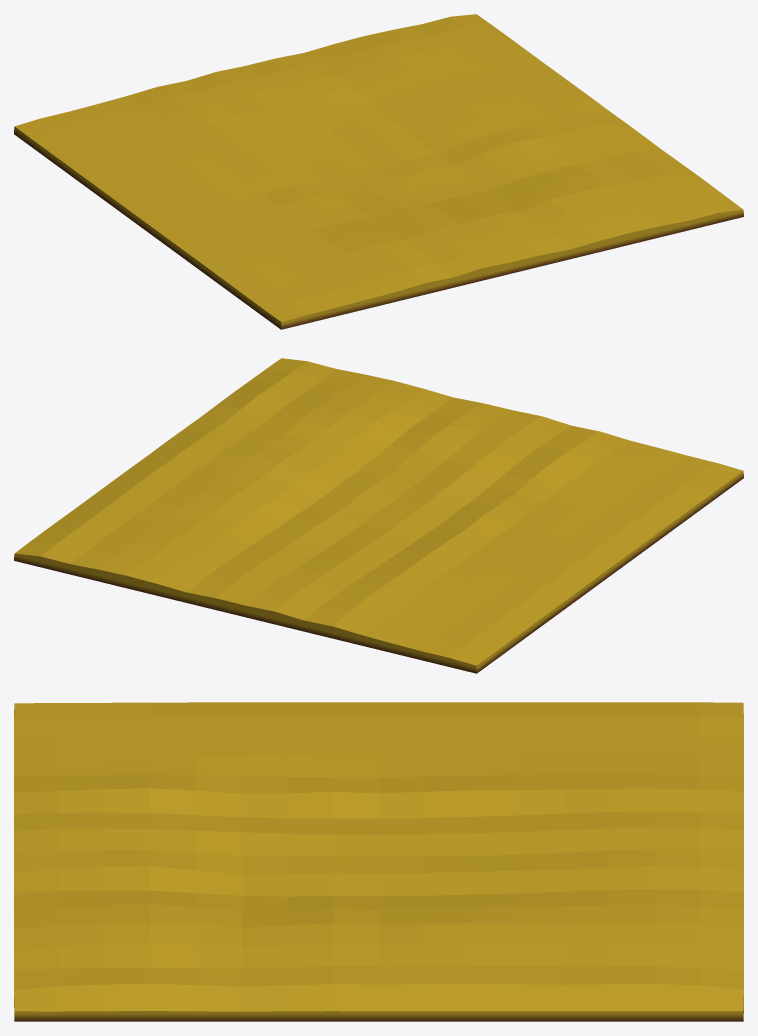
Rendered from SandGround.FBX.
3 views of the same model, one above another, from view 1: azimuth 30°, elevation 25°; view 2: azimuth 150°, elevation 25°; view 3: azimuth 270°, elevation 25° (orthographic). The views are drawn at different scales.
Visible parts, largest first — view 1: Box001; view 2: Box001; view 3: Box001.
Boxes of the visible parts, left/top/right/bottom form: Box001: left=14, top=14, right=743, bottom=329; Box001: left=14, top=358, right=743, bottom=673; Box001: left=14, top=702, right=743, bottom=1021.
Bounding box in the file's own units: 160 × 5.57 × 160.
